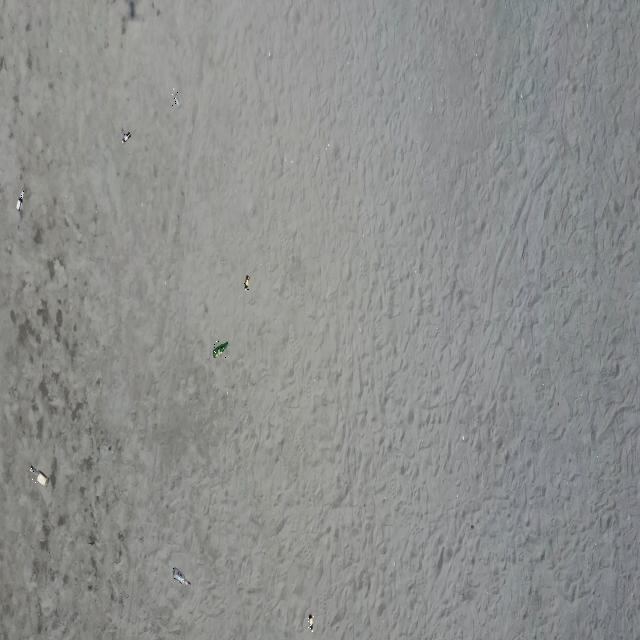glass: (30, 467, 49, 488), (173, 568, 191, 588), (213, 341, 230, 358), (172, 88, 182, 108), (16, 190, 24, 212), (122, 132, 131, 144), (308, 616, 314, 632), (244, 275, 250, 291)
